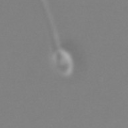normal: (31, 1, 63, 51)
